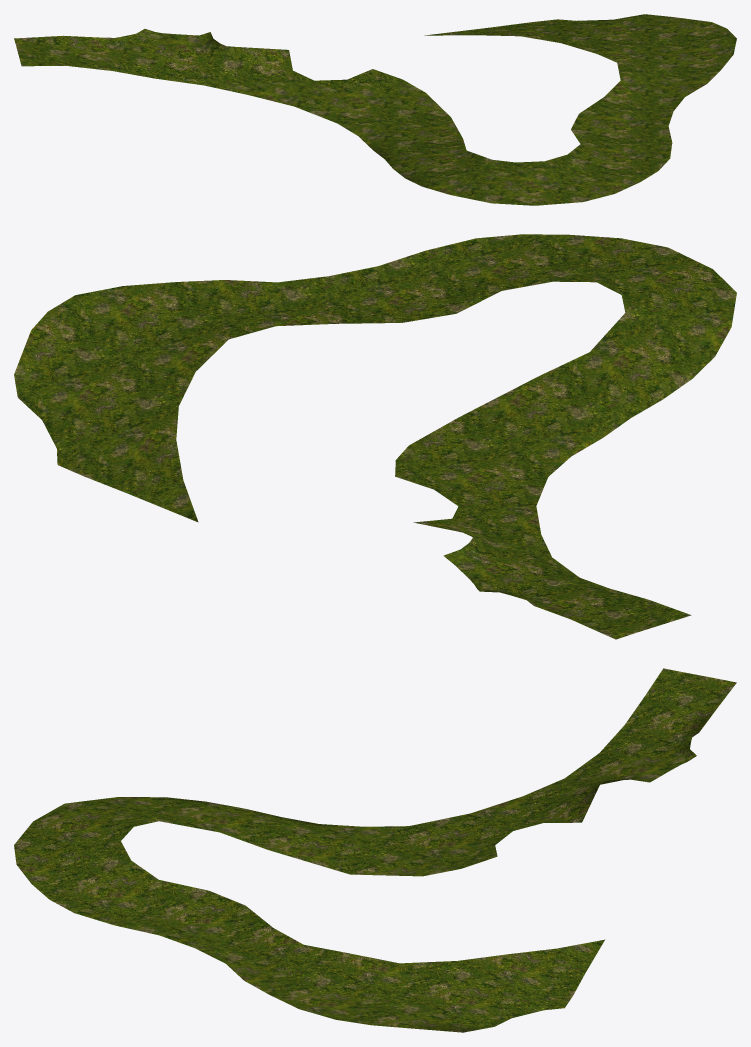
The model's file is OVERHILL_A_01_OH_B_OBJECT45.fbx.
3 views of the same model, one above another, from view 1: azimuth 30°, elevation 25°; view 2: azimuth 150°, elevation 25°; view 3: azimuth 270°, elevation 25° (orthographic). The views are drawn at different scales.
Parts seen in each view (by area): view 1: OVERHILL_A_01_OH_B_OBJECT45; view 2: OVERHILL_A_01_OH_B_OBJECT45; view 3: OVERHILL_A_01_OH_B_OBJECT45.
Boxes of the visible parts, left/top/right/bottom form: OVERHILL_A_01_OH_B_OBJECT45: left=14, top=14, right=736, bottom=205; OVERHILL_A_01_OH_B_OBJECT45: left=14, top=234, right=736, bottom=639; OVERHILL_A_01_OH_B_OBJECT45: left=14, top=668, right=736, bottom=1032.
Bounding box in the file's own units: 197801 × 14127 × 178194.
Materials: 1 (1 with a texture image).
